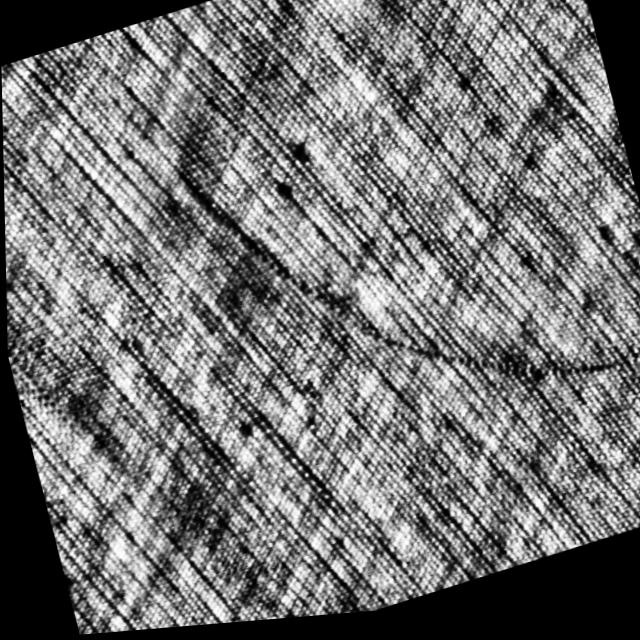Stitch: (132, 82, 640, 496)
